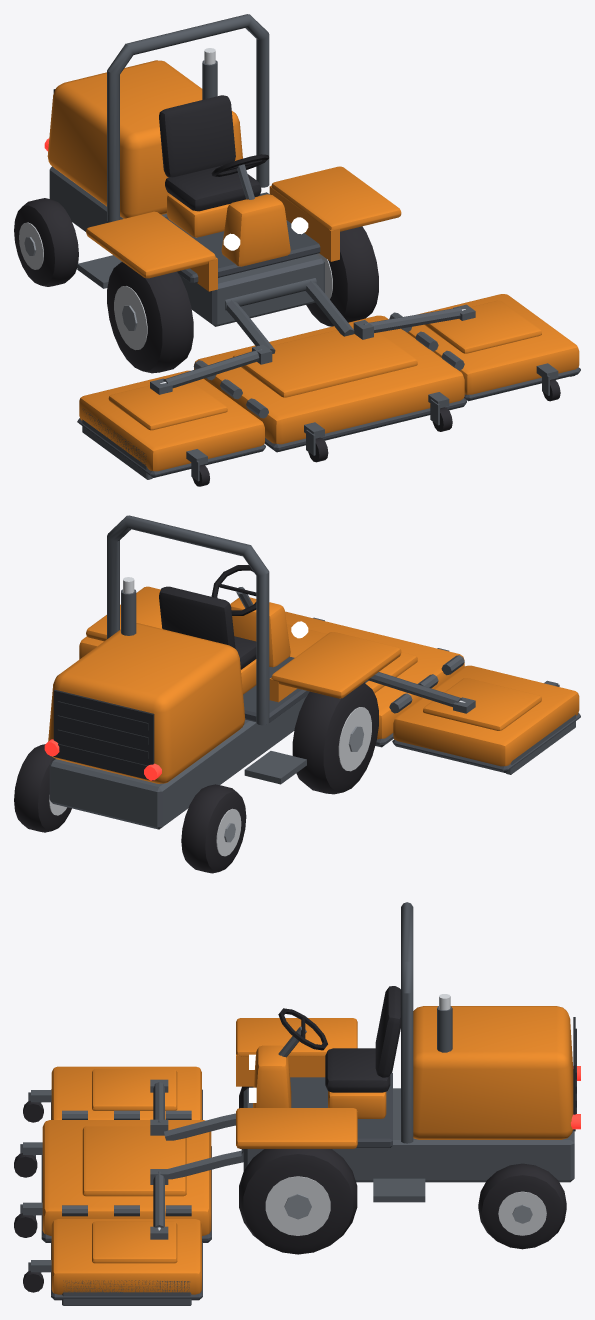
File: mower_widearea.glb
The picture shows the model from 3 angles, top to bottom: view 1: azimuth 30°, elevation 25°; view 2: azimuth 150°, elevation 25°; view 3: azimuth 270°, elevation 25°; orthographic projection.
Visible parts, largest first — view 1: Chassis, Deck, Wheel_FR, Wheel_RR, Wheel_FL; view 2: Chassis, Deck, Wheel_FR, Wheel_RR, Wheel_RL; view 3: Chassis, Deck, Wheel_FL, Wheel_RL.
Boxes of the visible parts, x1=… form: Chassis: x1=44, y1=14, x2=401, y2=353; Deck: x1=77, y1=294, x2=580, y2=486; Wheel_FR: x1=107, y1=262, x2=193, y2=373; Wheel_RR: x1=14, y1=198, x2=78, y2=286; Wheel_FL: x1=306, y1=226, x2=378, y2=326; Chassis: x1=44, y1=515, x2=401, y2=829; Deck: x1=79, y1=611, x2=580, y2=774; Wheel_FR: x1=292, y1=683, x2=378, y2=794; Wheel_RR: x1=181, y1=784, x2=246, y2=873; Wheel_RL: x1=14, y1=744, x2=71, y2=832; Chassis: x1=164, y1=902, x2=580, y2=1202; Deck: x1=14, y1=1066, x2=211, y2=1305; Wheel_FL: x1=239, y1=1149, x2=357, y2=1254; Wheel_RL: x1=478, y1=1163, x2=566, y2=1249.
Bounding box in the file's own units: 3.81 × 2.33 × 4.37.
